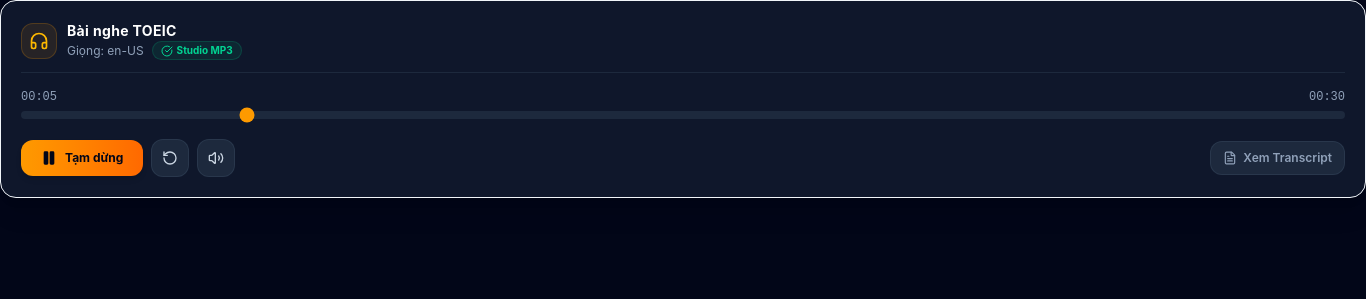
Test: ToeicAudioPlayer Component (Phase 2 Accessibility & Controls) › renders transcript with token highlighting safely without dangerouslySetInnerHTML
# Open transcript
Step 1. Click the button with aria-label "Xem lời thoại bài nghe" → (1278, 158), box [1210,141,1345,175]
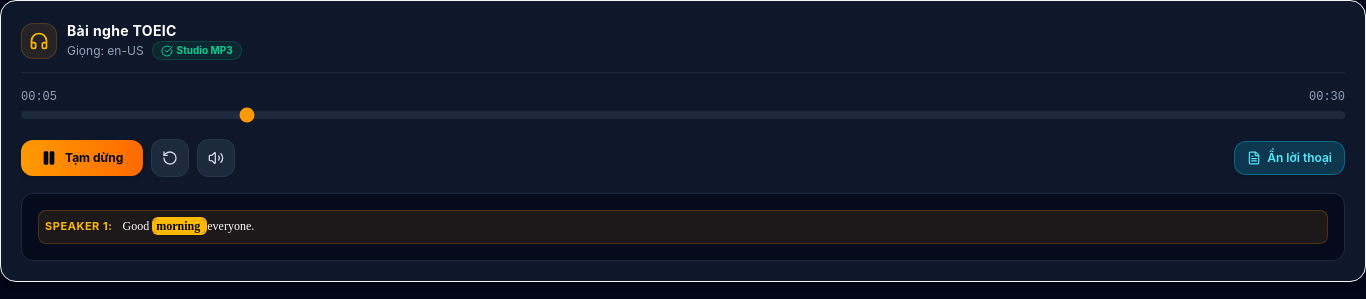
Check: the text "Speaker 1:" is shown, box [45,219,113,233]
Check: the text "Good" is shown, box [123,219,149,233]
Check: the text "morning" is shown, box [154,219,205,233]
